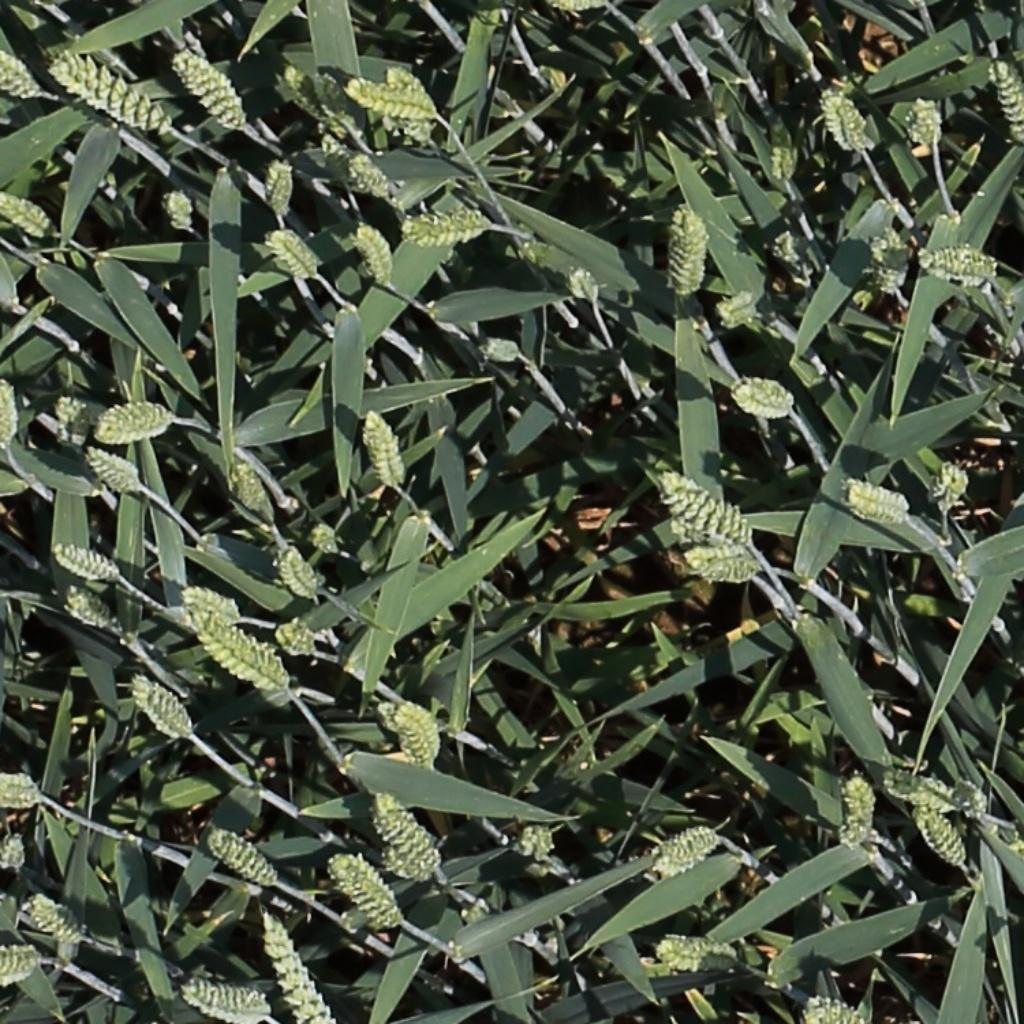0-0: (256, 868, 350, 1024), (182, 606, 289, 702), (51, 55, 169, 134), (329, 820, 410, 934), (167, 969, 285, 1024), (660, 466, 750, 534), (173, 47, 249, 125), (377, 796, 448, 874), (338, 143, 416, 213), (50, 522, 126, 587), (838, 475, 920, 535), (346, 76, 442, 125), (132, 674, 199, 741), (386, 60, 439, 143), (84, 427, 142, 501), (95, 398, 178, 447), (669, 192, 707, 298), (202, 825, 274, 880), (651, 817, 725, 869), (65, 565, 119, 636), (917, 240, 996, 288), (366, 405, 409, 492), (659, 928, 748, 970), (277, 60, 335, 124), (836, 767, 879, 853), (909, 807, 975, 863), (295, 114, 370, 162), (821, 79, 871, 150), (266, 217, 320, 282), (405, 210, 488, 252), (877, 763, 962, 804), (730, 372, 799, 422), (352, 206, 398, 277), (392, 704, 441, 770), (987, 49, 1022, 140), (685, 545, 757, 588), (18, 891, 87, 934), (369, 699, 451, 735), (225, 461, 271, 524), (182, 585, 243, 630), (274, 547, 320, 606), (27, 857, 86, 903), (870, 236, 906, 310), (0, 38, 41, 101), (622, 299, 648, 396), (0, 766, 47, 819), (0, 934, 47, 986), (0, 177, 53, 223), (707, 291, 761, 335), (935, 459, 972, 522), (506, 820, 566, 858), (951, 768, 991, 822), (54, 370, 87, 434), (259, 618, 326, 649), (266, 141, 293, 212), (771, 105, 797, 178), (308, 517, 349, 563), (567, 262, 605, 310), (162, 174, 197, 223), (914, 86, 940, 146), (0, 828, 25, 883), (806, 1003, 869, 1024), (0, 357, 15, 434)
